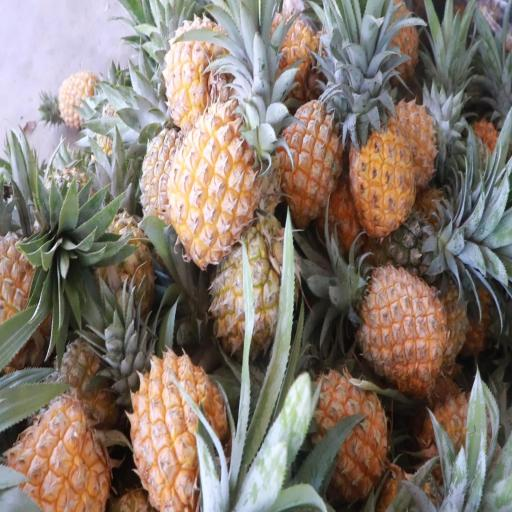------------------------------: (216, 236, 298, 366)
Pineapple - v8 v1: (135, 359, 226, 508), (171, 113, 258, 262), (0, 397, 111, 512), (306, 373, 388, 499), (360, 267, 444, 382), (276, 101, 345, 224), (352, 128, 417, 236), (166, 20, 232, 125), (272, 14, 323, 92)
